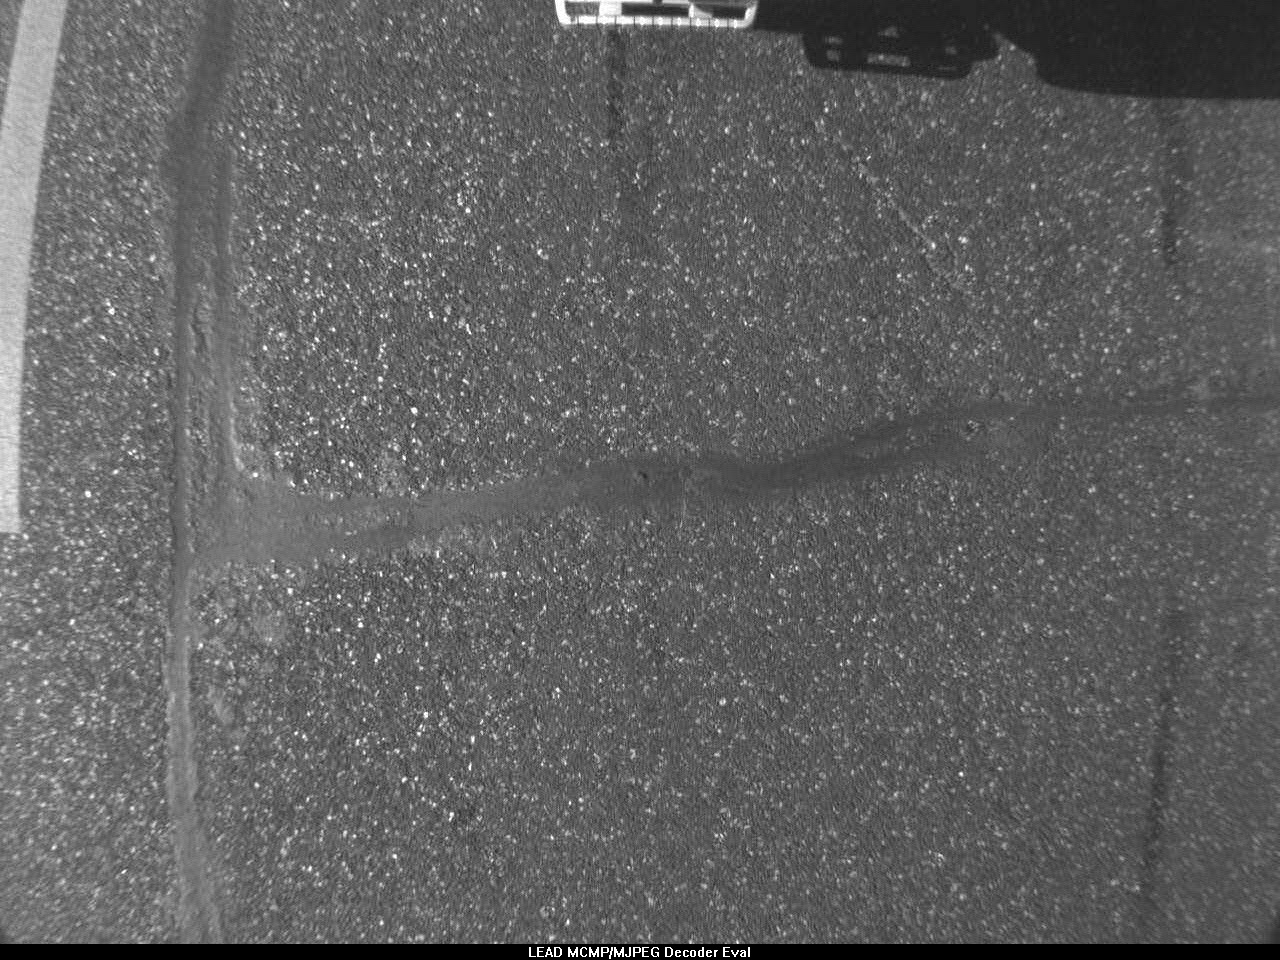sealed: (245, 397, 1097, 584), (132, 29, 276, 943)
